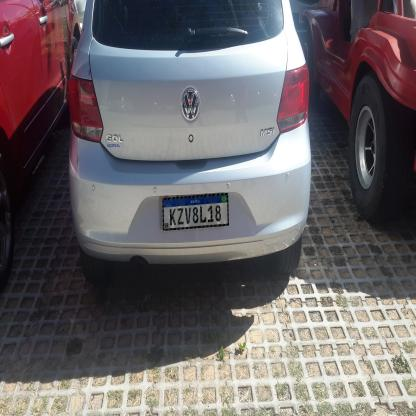PlacaM: (162, 193, 229, 231)
